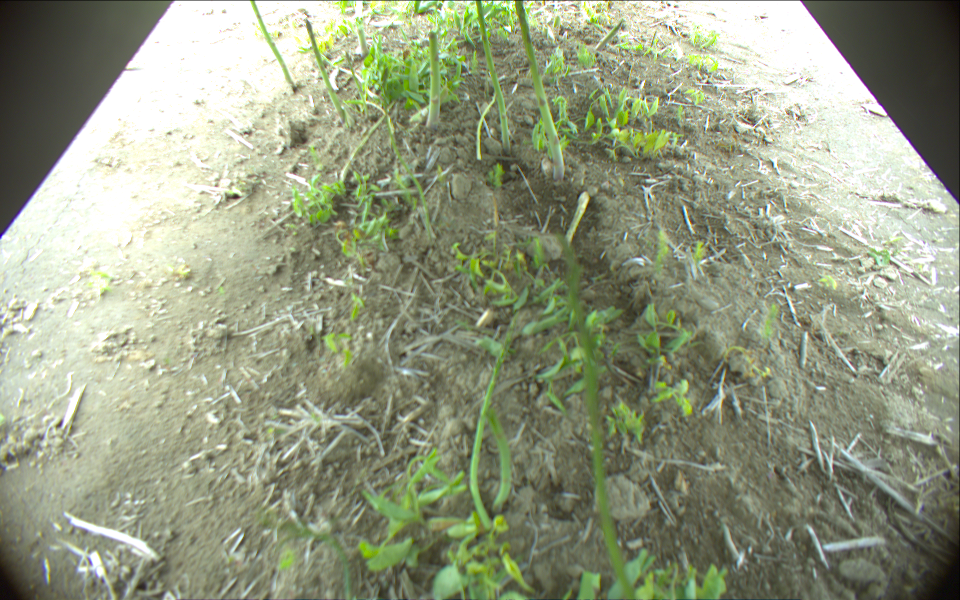aspa: (555, 229, 640, 600), (469, 308, 523, 529), (514, 1, 567, 177), (474, 1, 512, 150), (338, 101, 399, 190), (248, 1, 297, 90), (304, 19, 342, 116), (482, 408, 512, 511), (563, 190, 593, 253), (474, 87, 497, 160), (344, 51, 368, 115), (596, 18, 625, 50), (356, 25, 369, 56), (439, 32, 441, 126)
